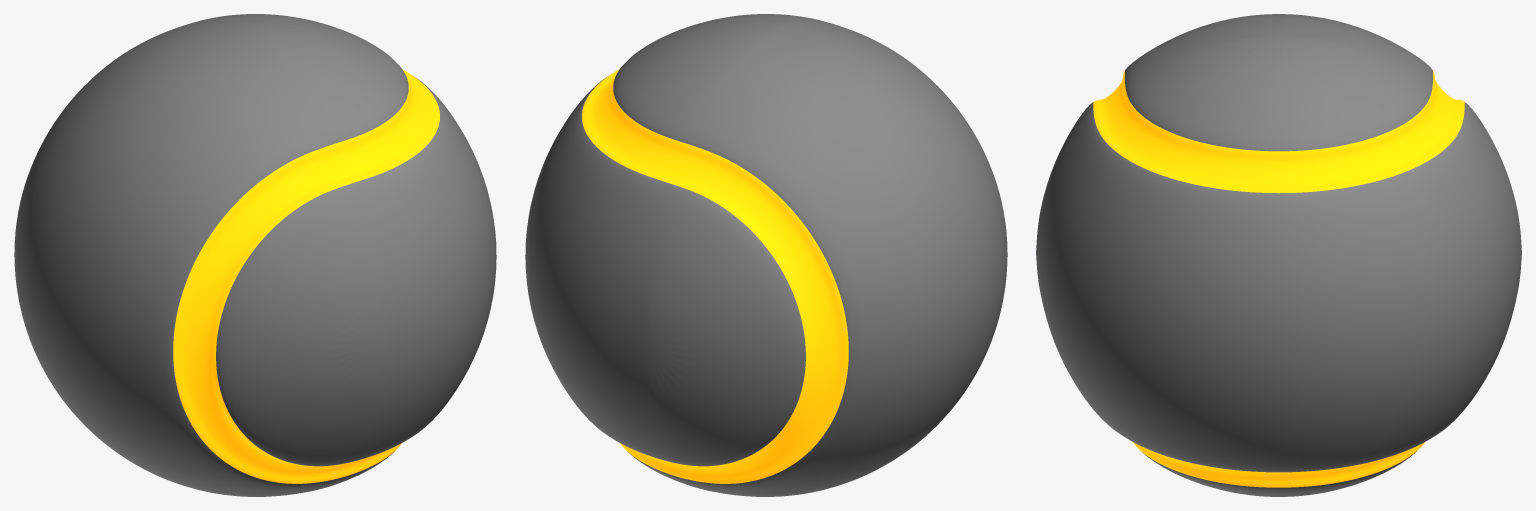
File: ball.fbx
The picture shows the model from 3 angles, left to right: view 1: azimuth 30°, elevation 25°; view 2: azimuth 150°, elevation 25°; view 3: azimuth 270°, elevation 25°; orthographic projection.
Visible parts, largest first — view 1: Sphere; view 2: Sphere; view 3: Sphere.
Boxes of the visible parts, x1,y1,x2,y2 form: Sphere: [14, 14, 496, 496]; Sphere: [525, 14, 1007, 496]; Sphere: [1036, 14, 1521, 496].
Size of the model in its own units: 197 by 199 by 199.
